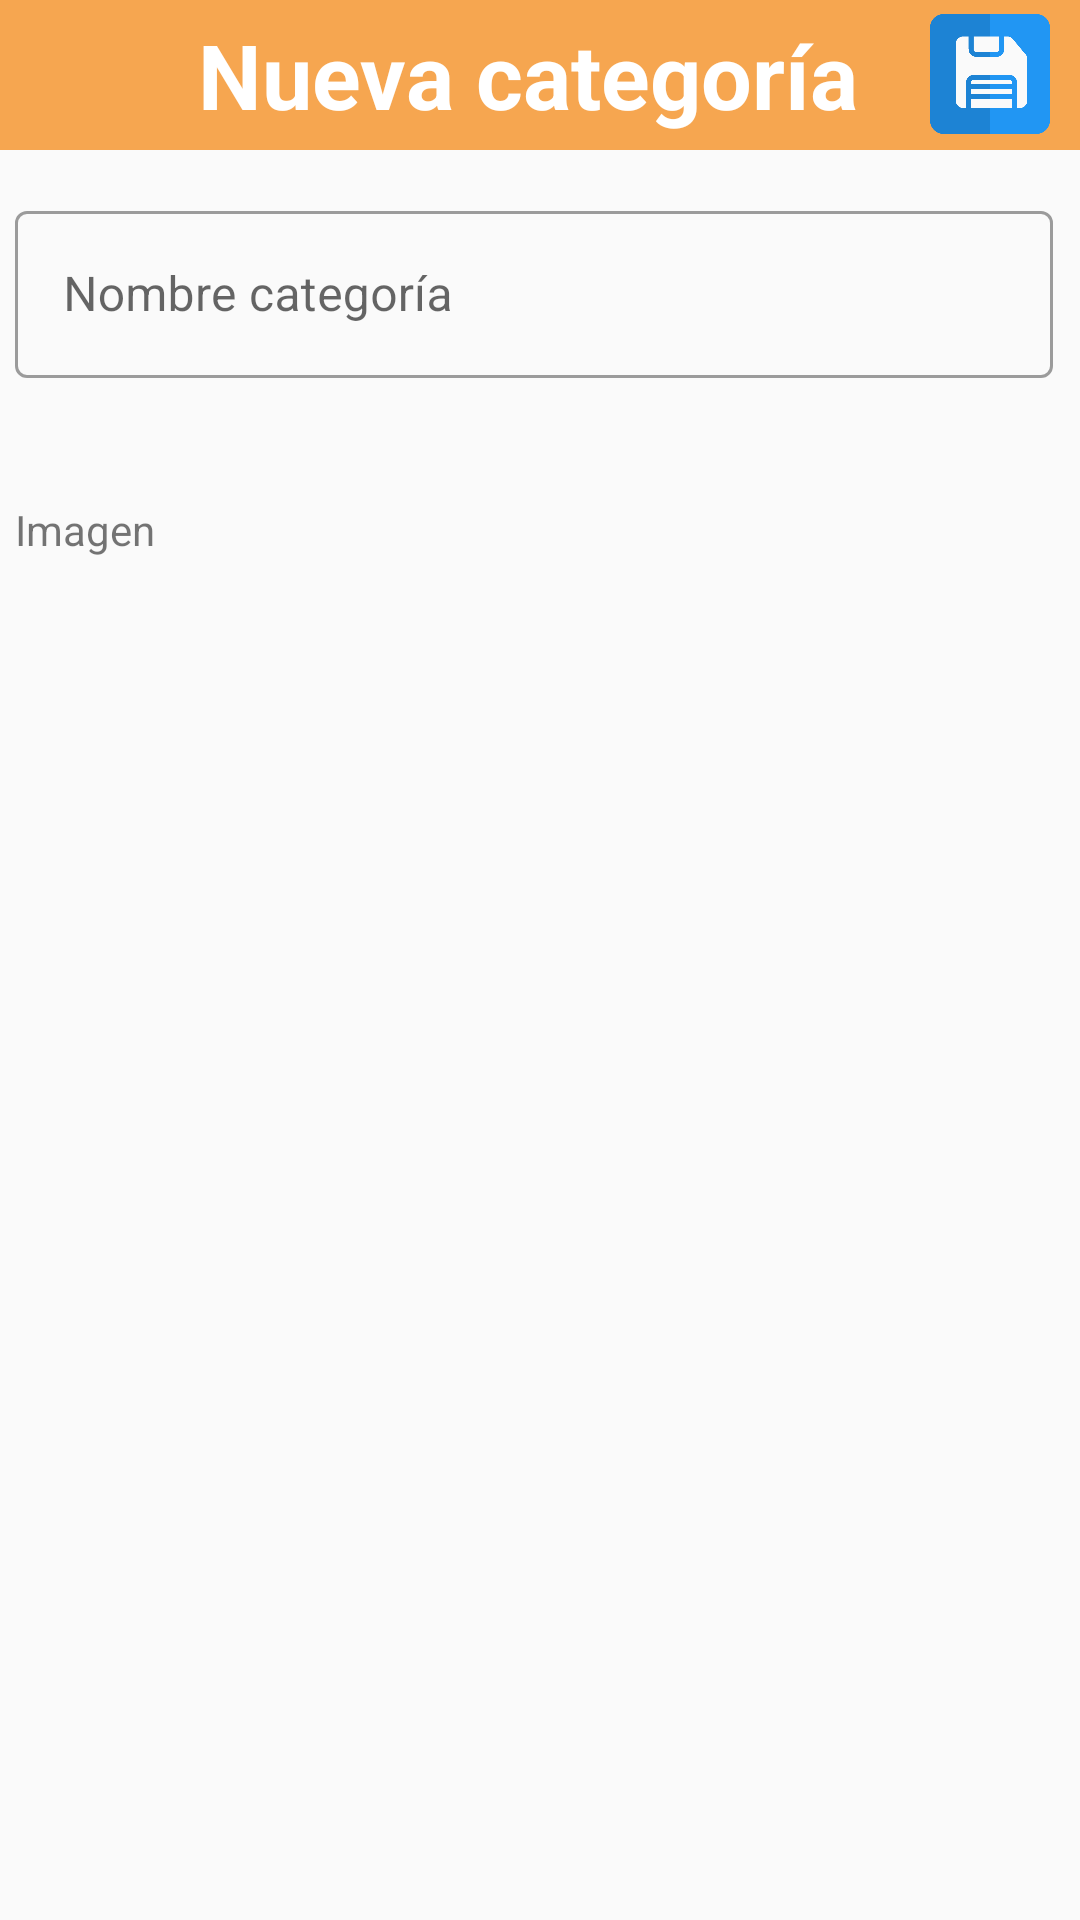

Screen size 1080 x 1920. Icon name, then its box in pixels as (x1, y1, x2, y2):
guardar: (930, 14, 1050, 134)
